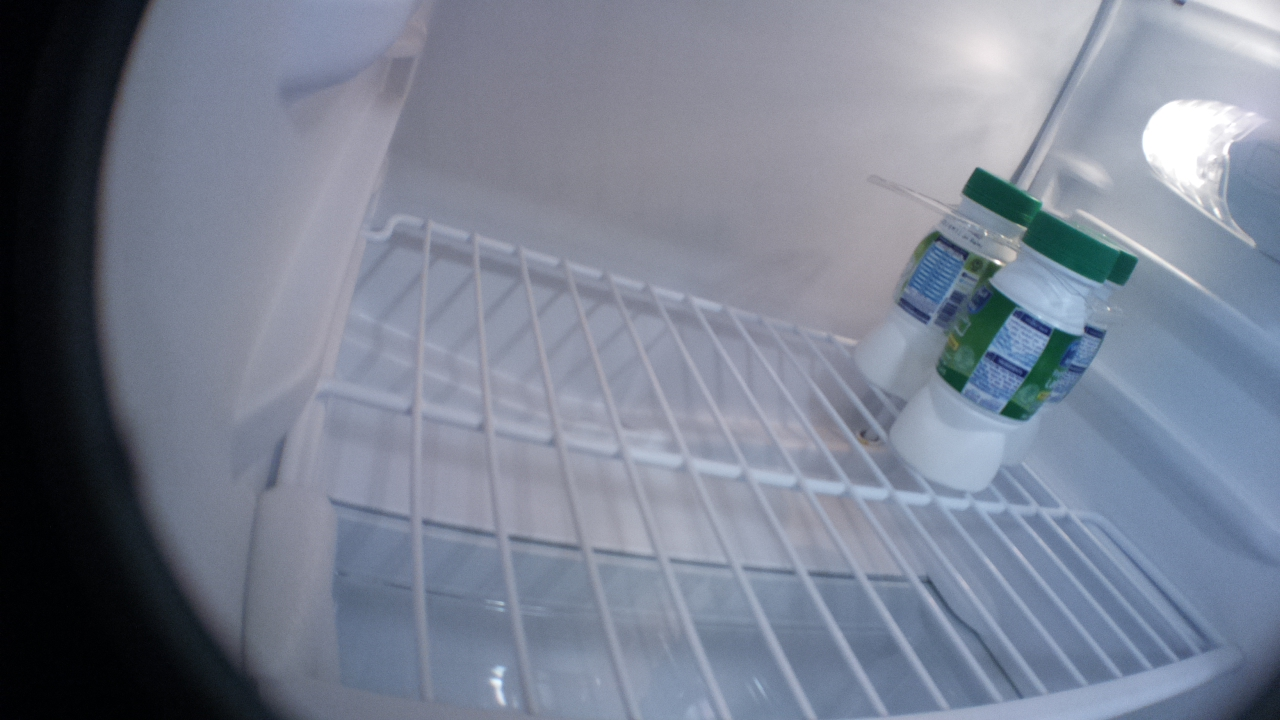laban: (888, 207, 1121, 490), (850, 166, 1041, 398), (1087, 218, 1137, 391)
